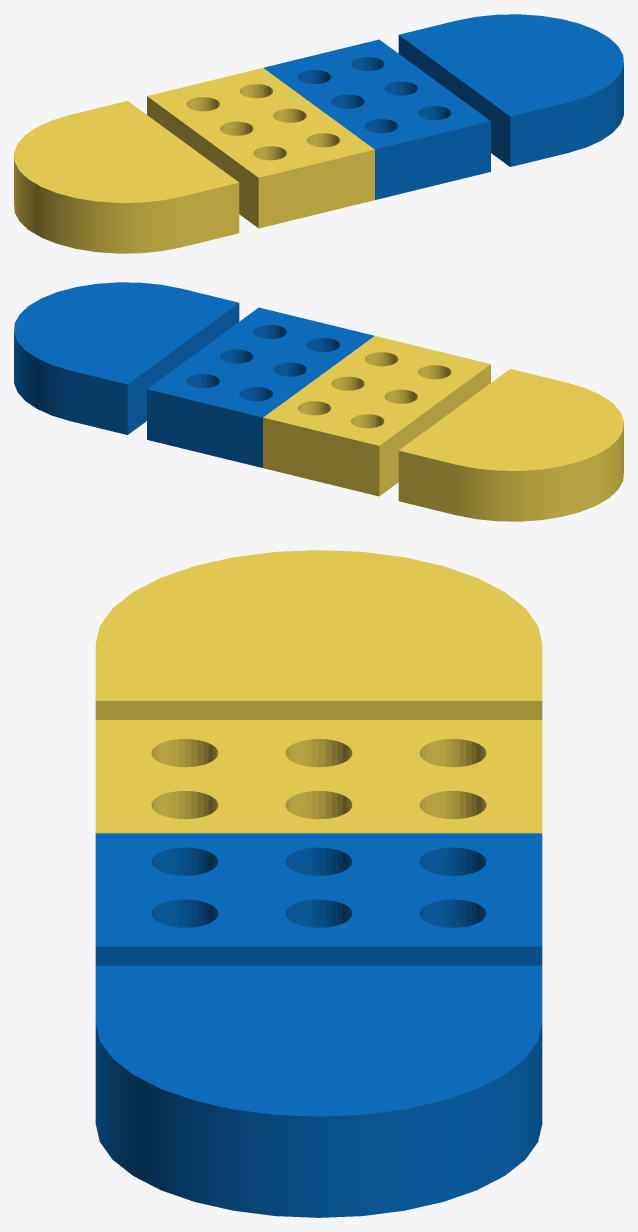
File: medsupply.glb
The picture shows the model from 3 angles, top to bottom: view 1: azimuth 30°, elevation 25°; view 2: azimuth 150°, elevation 25°; view 3: azimuth 270°, elevation 25°; orthographic projection. The views are drawn at different scales.
Parts seen in each view (by area): view 1: Yellow, Blue; view 2: Yellow, Blue; view 3: Blue, Yellow.
Boxes of the visible parts, left/top/right/bottom form: Yellow: left=14, top=68, right=374, bottom=253; Blue: left=263, top=14, right=623, bottom=199; Yellow: left=263, top=336, right=623, bottom=521; Blue: left=14, top=282, right=374, bottom=467; Blue: left=95, top=833, right=542, bottom=1217; Yellow: left=95, top=550, right=542, bottom=833.
Size of the model in its own units: 6 by 0.5 by 2.
